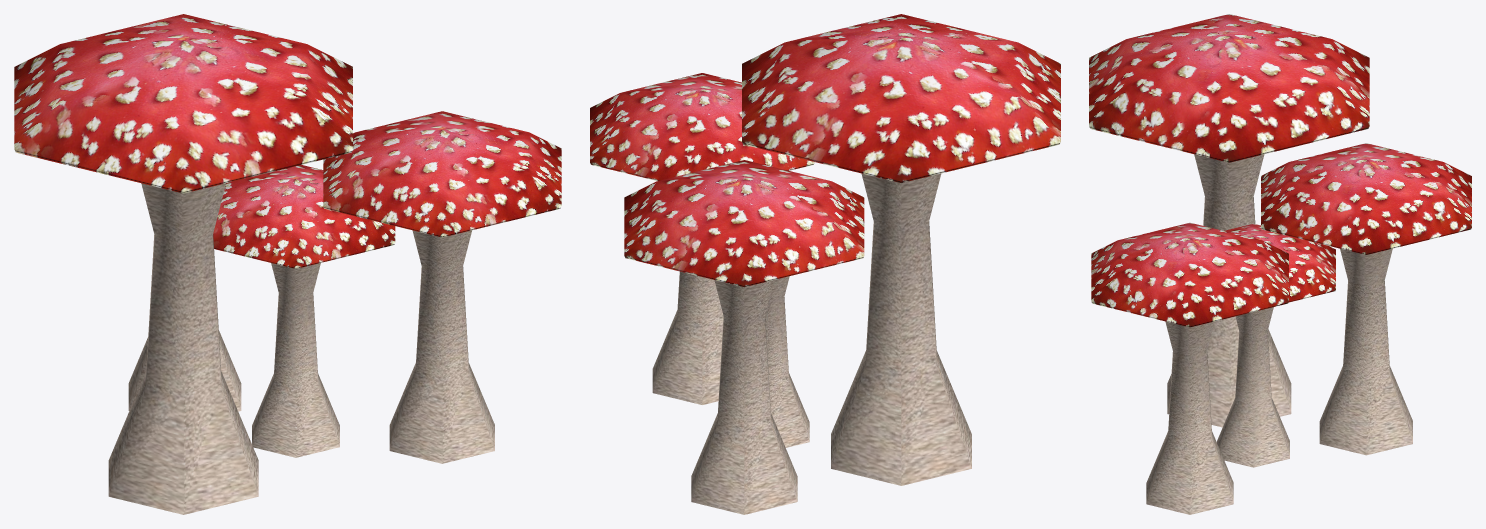
File: mushroom.fbx
3 renders of one model, left to right at view 1: azimuth 30°, elevation 25°; view 2: azimuth 150°, elevation 25°; view 3: azimuth 270°, elevation 25°, orthographic. The views are drawn at different scales.
Parts seen in each view (by area): view 1: mushroom; view 2: mushroom; view 3: mushroom.
Part boxes in pixels (x1,y1,x2,y2): mushroom: (14,14,561,514); mushroom: (590,14,1060,514); mushroom: (1089,14,1471,514).
Size of the model in its own units: 3.69 by 2.95 by 2.82.
